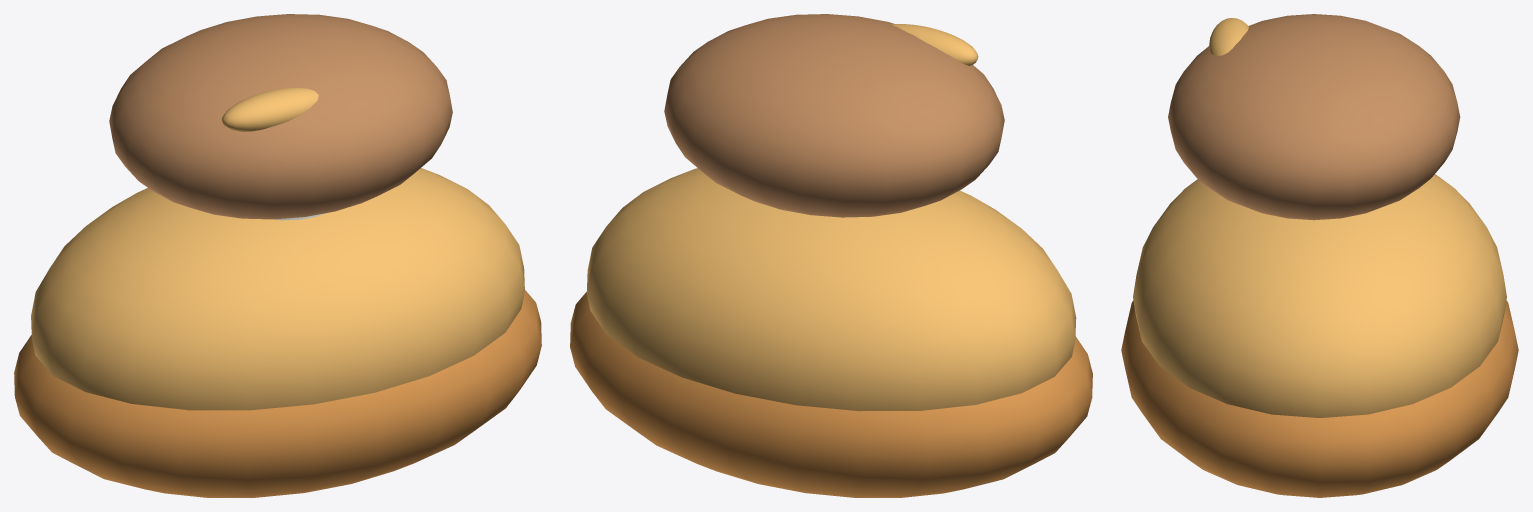
File: bread_mushroom_unity.glb
3 renders of one model, left to right at view 1: azimuth 30°, elevation 25°; view 2: azimuth 150°, elevation 25°; view 3: azimuth 270°, elevation 25°, orthographic. The views are drawn at different scales.
Parts seen in each view (by area): view 1: Mushroom bun domed top, Mushroom cap, Mushroom bun lower crust, Mushroom cap shine; view 2: Mushroom bun domed top, Mushroom cap, Mushroom bun lower crust, Mushroom cap shine; view 3: Mushroom bun domed top, Mushroom cap, Mushroom bun lower crust, Mushroom cap shine.
Part boxes in pixels (x1=…): Mushroom bun domed top: x1=31, y1=168, x2=524, y2=410; Mushroom cap: x1=109, y1=14, x2=452, y2=219; Mushroom bun lower crust: x1=14, y1=290, x2=541, y2=497; Mushroom cap shine: x1=222, y1=88, x2=318, y2=131; Mushroom bun domed top: x1=586, y1=168, x2=1076, y2=411; Mushroom cap: x1=664, y1=14, x2=1004, y2=217; Mushroom bun lower crust: x1=570, y1=292, x2=1092, y2=497; Mushroom cap shine: x1=891, y1=24, x2=978, y2=65; Mushroom bun domed top: x1=1133, y1=174, x2=1506, y2=417; Mushroom cap: x1=1168, y1=14, x2=1460, y2=220; Mushroom bun lower crust: x1=1121, y1=300, x2=1518, y2=497; Mushroom cap shine: x1=1209, y1=18, x2=1248, y2=55.
Bounding box in the file's own units: 0.92 × 0.76 × 0.68.
